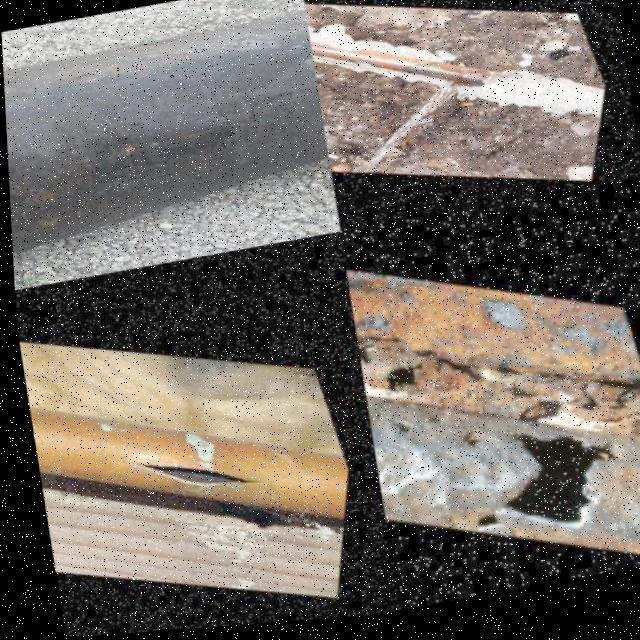hole: (473, 408, 640, 571), (460, 504, 504, 545), (381, 415, 422, 451), (453, 428, 492, 462), (417, 410, 455, 441)
rupture: (107, 432, 275, 520), (450, 83, 479, 93)
